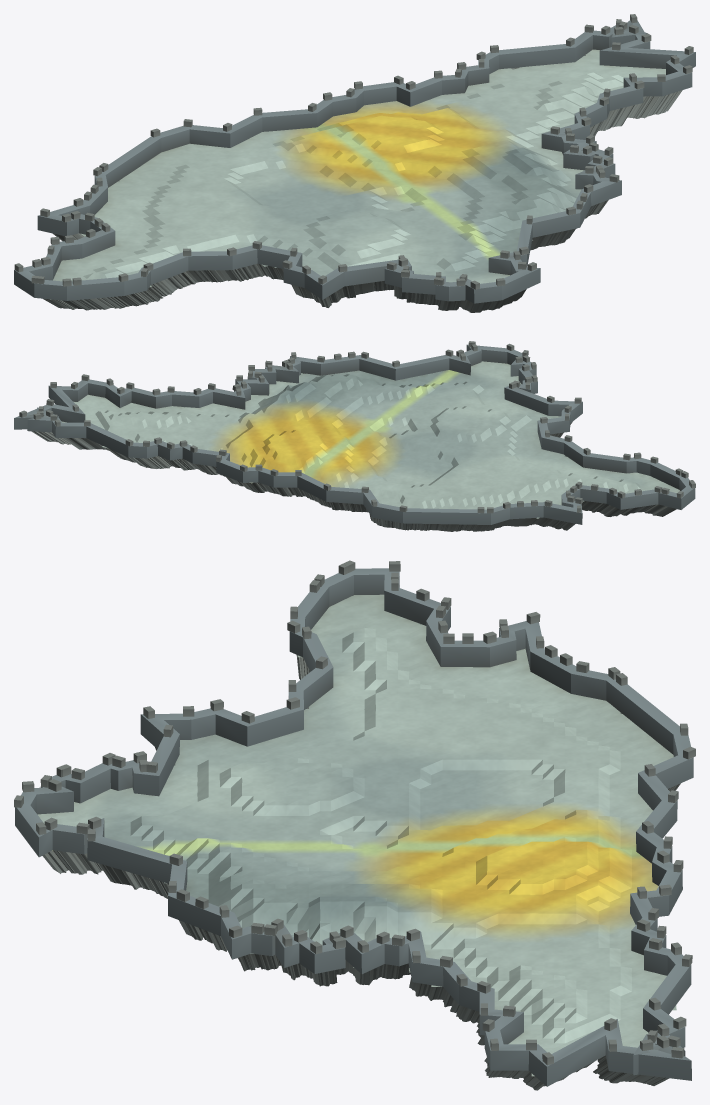
3 renders of one model, top to bottom at view 1: azimuth 30°, elevation 25°; view 2: azimuth 150°, elevation 25°; view 3: azimuth 270°, elevation 25°, orthographic. The views are drawn at different scales.
Visible parts, largest first — view 1: ground_c3f69a44; view 2: ground_c3f69a44; view 3: ground_c3f69a44.
Boxes of the visible parts, bbox=[...] form: ground_c3f69a44: bbox=[14, 14, 695, 312]; ground_c3f69a44: bbox=[14, 341, 695, 531]; ground_c3f69a44: bbox=[14, 560, 695, 1090].
Size of the model in its own units: 159 by 7.71 by 91.84.
2 materials, 1 textured.
